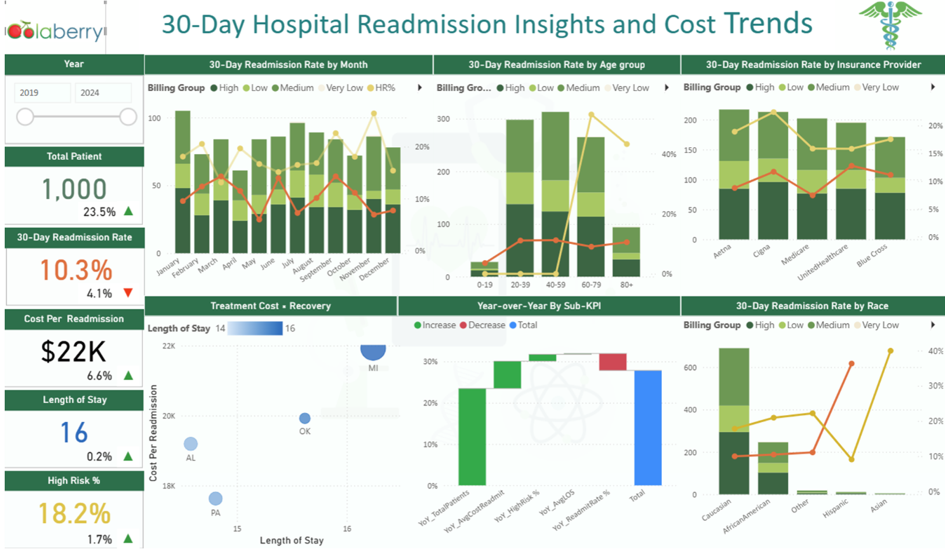

The page's visual inventory and layout, read from the dashboard file:
{"tool":"powerbi","page":{"name":"Original Readmission Insights & Cost Trends","canvas":[1366,800],"ordinal":0},"visuals":[{"type":"textbox","box":[147.8,1,1056,81.6],"z":0},{"type":"image","box":[0,1,147.8,96.6],"z":1000},{"type":"image","box":[1203.9,1,161.6,81.8],"z":2000},{"type":"slicer","title":"Year","fields":{"Values":["DateTable.Year"]},"box":[0,82.7,201.5,117.8],"z":3000},{"type":"card","title":"30-Day Readmission Rate","fields":{"Values":["KPI Measures.ReadmitRate %"]},"box":[3,327,201,113.3],"z":4000},{"type":"card","title":"Total Patient","fields":{"Values":["KPI Measures.TotalPatients"]},"box":[0,207.2,201,113],"z":5000},{"type":"card","title":"Cost Per Readmission","fields":{"Values":["KPI Measures.AvgCostPerReadmit_30"]},"box":[0,447.1,201,113],"z":6000},{"type":"card","title":"Length of Stay","fields":{"Values":["KPI Measures.AvgLOS"]},"box":[0,566.9,201,113],"z":7000},{"type":"lineStackedColumnComboChart","fields":{"Category":["DateTable.MonthName"],"Y2":["KPI Measures.HighRisk %","KPI Measures.30-Day Readmission Rate %"],"Y":["KPI Measures.TotalPatients"],"Series":["30PatientHospitalAdmission_Combined.BillingGroup"]},"box":[203,111.3,418.7,322.2],"z":8000},{"type":"lineStackedColumnComboChart","fields":{"Category":["30PatientHospitalAdmission_Combined.AgeRange"],"Y2":["KPI Measures.HighRisk %","KPI Measures.30-Day Readmission Rate %"],"Y":["KPI Measures.TotalPatients"],"Series":["30PatientHospitalAdmission_Combined.BillingGroup"]},"box":[621.7,111.3,357.6,322.2],"z":9000},{"type":"lineStackedColumnComboChart","fields":{"Category":["30PatientHospitalAdmission_Combined.InsuranceProvider"],"Y":["KPI Measures.TotalPatients"],"Y2":["KPI Measures.HighRisk %","KPI Measures.30-Day Readmission Rate %"],"Series":["30PatientHospitalAdmission_Combined.BillingGroup"]},"box":[979.3,110.3,386.2,322.2],"z":10000},{"type":"scatterChart","title":"Impact of Length of Stay on Billing Amount by Medical Condition","fields":{"X":["KPI Measures.AvgLOS"],"Y":["KPI Measures.AvgCostReadmit"],"Category":["30PatientHospitalAdmission_Combined.State"],"Size":["KPI Measures.TotalPatients"]},"box":[203,462.1,385.2,337.9],"z":11000},{"type":"waterfallChart","title":"Impact of Length of Stay on Billing Amount by Medical Condition","fields":{"Category":["SubKPIs.KPI"],"Y":["SubKPIs.Waterfall_SubKPI_Values"]},"box":[588.2,455.2,391.1,344.8],"z":12000},{"type":"lineStackedColumnComboChart","title":"Impact of Length of Stay on Billing Amount by Medical Condition","fields":{"Category":["30PatientHospitalAdmission_Combined.Race"],"Y2":["KPI Measures.30-Day Readmission Rate %","KPI Measures.HighRisk %"],"Y":["KPI Measures.TotalPatients"],"Series":["30PatientHospitalAdmission_Combined.BillingGroup"]},"box":[979.3,455.2,386.2,344.8],"z":13000},{"type":"textbox","box":[202.9,82.9,418.6,30],"z":14000},{"type":"textbox","box":[621.4,82.9,358.6,30],"z":15000},{"type":"textbox","box":[980,82.9,385.7,30],"z":16000},{"type":"textbox","box":[202.9,432.9,367.1,30],"z":17000},{"type":"textbox","box":[570,432.9,410,30],"z":18000},{"type":"textbox","box":[980,432.9,385.7,30],"z":19000},{"type":"card","title":"High Risk %","fields":{"Values":["KPI Measures.HighRisk %"]},"box":[0,686.7,202,113.3],"z":24000},{"type":"card","fields":{"Values":["KPI Measures.YoY_AvgCostReadmit"]},"box":[107.5,533.8,62,29.6],"z":27000},{"type":"card","fields":{"Values":["KPI Measures.YoY_HighRisk %"]},"box":[107.5,771,62,29],"z":28000},{"type":"card","fields":{"Values":["KPI Measures.YoY_AvgLOS"]},"box":[107.4,651.2,62.1,29.6],"z":29000},{"type":"card","fields":{"Values":["KPI Measures.YoY_TotalPatients_Arrow"]},"box":[163.3,290.4,34.1,30],"z":30000},{"type":"card","fields":{"Values":["KPI Measures.YoY_TotalPatients"]},"box":[107.5,291.4,62,28.9],"z":31000},{"type":"card","fields":{"Values":["KPI Measures.YoY_ReadmitRate_Percent"]},"box":[103.3,411.2,62,28.9],"z":32000},{"type":"card","fields":{"Values":["KPI Measures.YoY_ReadmitRate_Arrow"]},"box":[164.3,411.2,33.1,28.9],"z":33000},{"type":"card","fields":{"Values":["KPI Measures.YoY_AvgCostReadmit_Arrow"]},"box":[163.3,531.1,34.1,28.9],"z":34000},{"type":"card","fields":{"Values":["KPI Measures.YoY_AvgLOS_Arrow"]},"box":[163.3,649.9,33.1,30],"z":35000},{"type":"card","fields":{"Values":["KPI Measures.YoY_HighRiskArrow"]},"box":[163.3,770.8,33.1,27.9],"z":36000}]}

Visuals, with their boxes in screenshot pixels (x1, y1, x2, y2), scaled from the page's 1366x800 canvas onto the 946x552 screenshot:
textbox: [x1=102, y1=1, x2=834, y2=57]
image: [x1=0, y1=1, x2=102, y2=67]
image: [x1=834, y1=1, x2=945, y2=57]
"Year" slicer: [x1=0, y1=57, x2=140, y2=138]
"30-Day Readmission Rate" card: [x1=2, y1=226, x2=141, y2=304]
"Total Patient" card: [x1=0, y1=143, x2=139, y2=221]
"Cost Per Readmission" card: [x1=0, y1=308, x2=139, y2=386]
"Length of Stay" card: [x1=0, y1=391, x2=139, y2=469]
lineStackedColumnComboChart - DateTable.MonthName x KPI Measures.HighRisk %: [x1=141, y1=77, x2=431, y2=299]
lineStackedColumnComboChart - 30PatientHospitalAdmission_Combined.AgeRange x KPI Measures.HighRisk %: [x1=431, y1=77, x2=678, y2=299]
lineStackedColumnComboChart - 30PatientHospitalAdmission_Combined.InsuranceProvider x KPI Measures.TotalPatients: [x1=678, y1=76, x2=945, y2=298]
"Impact of Length of Stay on Billing Amount by Medical Condition" scatterChart: [x1=141, y1=319, x2=407, y2=551]
"Impact of Length of Stay on Billing Amount by Medical Condition" waterfallChart: [x1=407, y1=314, x2=678, y2=551]
"Impact of Length of Stay on Billing Amount by Medical Condition" lineStackedColumnComboChart: [x1=678, y1=314, x2=945, y2=551]
textbox: [x1=141, y1=57, x2=430, y2=78]
textbox: [x1=430, y1=57, x2=679, y2=78]
textbox: [x1=679, y1=57, x2=945, y2=78]
textbox: [x1=141, y1=299, x2=395, y2=319]
textbox: [x1=395, y1=299, x2=679, y2=319]
textbox: [x1=679, y1=299, x2=945, y2=319]
"High Risk %" card: [x1=0, y1=474, x2=140, y2=551]
card - KPI Measures.YoY_AvgCostReadmit: [x1=74, y1=368, x2=117, y2=389]
card - KPI Measures.YoY_HighRisk %: [x1=74, y1=532, x2=117, y2=551]
card - KPI Measures.YoY_AvgLOS: [x1=74, y1=449, x2=117, y2=470]
card - KPI Measures.YoY_TotalPatients_Arrow: [x1=113, y1=200, x2=137, y2=221]
card - KPI Measures.YoY_TotalPatients: [x1=74, y1=201, x2=117, y2=221]
card - KPI Measures.YoY_ReadmitRate_Percent: [x1=72, y1=284, x2=114, y2=304]
card - KPI Measures.YoY_ReadmitRate_Arrow: [x1=114, y1=284, x2=137, y2=304]
card - KPI Measures.YoY_AvgCostReadmit_Arrow: [x1=113, y1=366, x2=137, y2=386]
card - KPI Measures.YoY_AvgLOS_Arrow: [x1=113, y1=448, x2=136, y2=469]
card - KPI Measures.YoY_HighRiskArrow: [x1=113, y1=532, x2=136, y2=551]
